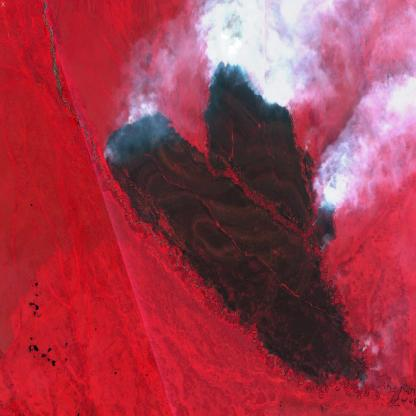fire: (199, 55, 301, 126), (98, 104, 164, 171), (311, 186, 341, 228)
